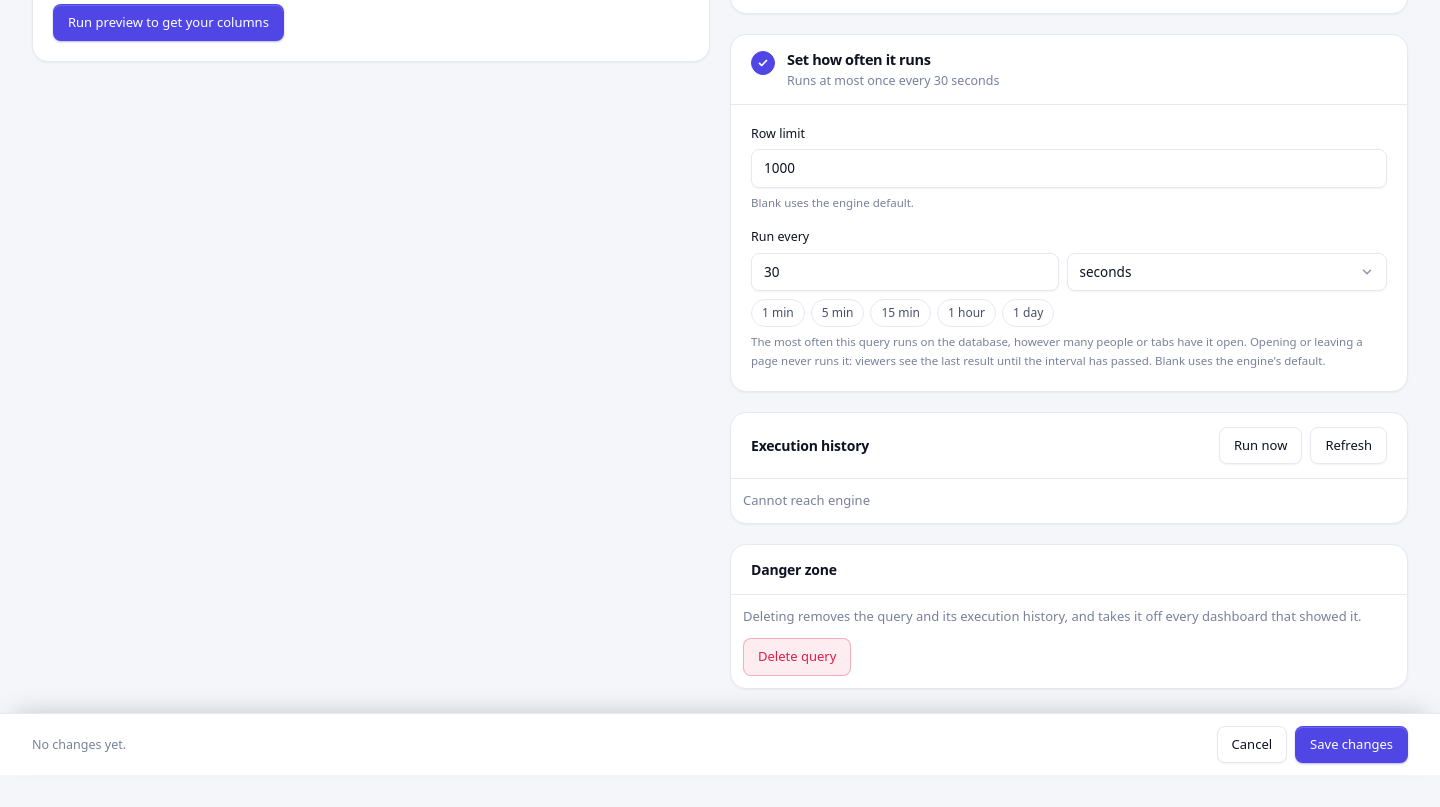
Test: saved flag rules on reopen › explains a rule whose list was deleted, instead of printing the engine's id
This screenshot has width=1440, height=807.
(page scrolled)
Click the button "Save changes" at [1352, 744], box [1295,726,1408,763]
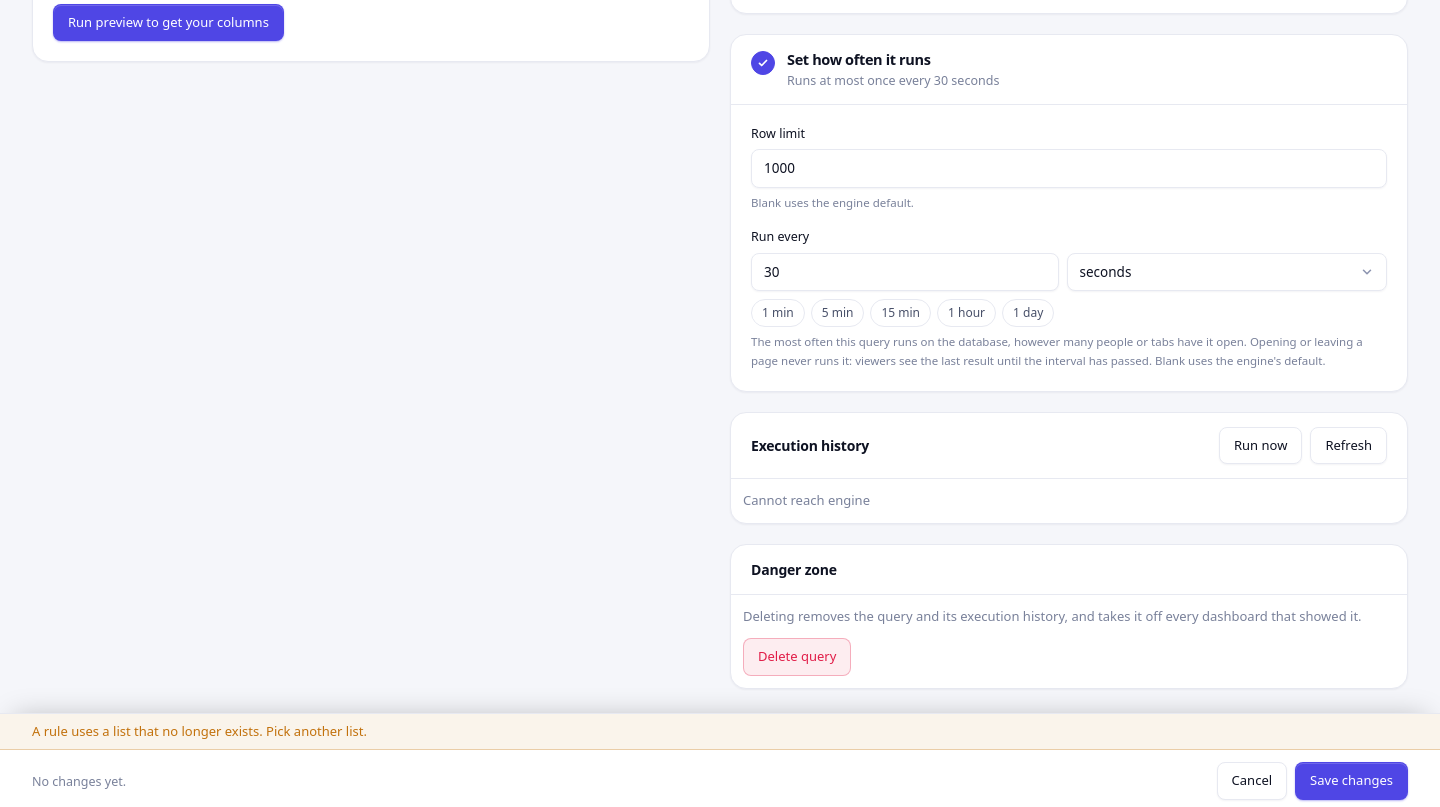
Now the text "A rule uses a list that no longer exists. Pick another list." is shown, box [0,714,1439,750]
